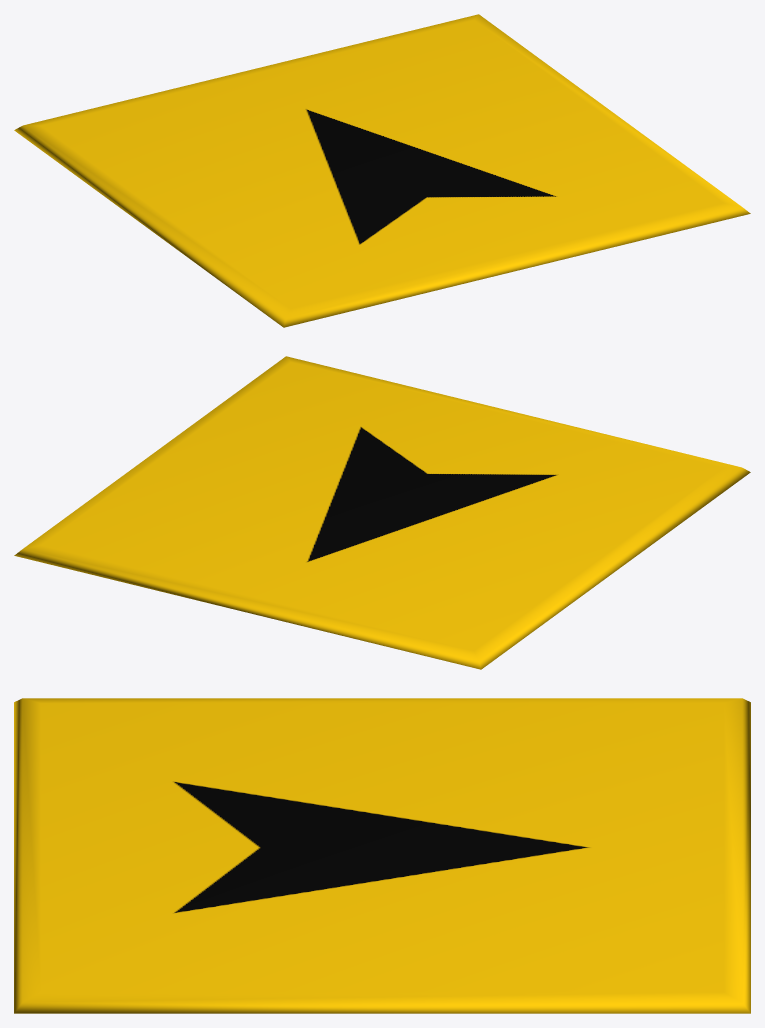
The model's file is speed_panel.obj.
The picture shows the model from 3 angles, top to bottom: view 1: azimuth 30°, elevation 25°; view 2: azimuth 150°, elevation 25°; view 3: azimuth 270°, elevation 25°; orthographic projection. The views are drawn at different scales.
Visible parts, largest first — view 1: Speed_Panel; view 2: Speed_Panel; view 3: Speed_Panel.
Part boxes in pixels (left/top/right/bottom): Speed_Panel: left=14, top=14, right=750, bottom=327; Speed_Panel: left=14, top=356, right=750, bottom=669; Speed_Panel: left=14, top=698, right=750, bottom=1013.
Size of the model in its own units: 8.2 by 0.125 by 8.2.
Materials: 1 (1 with a texture image).
